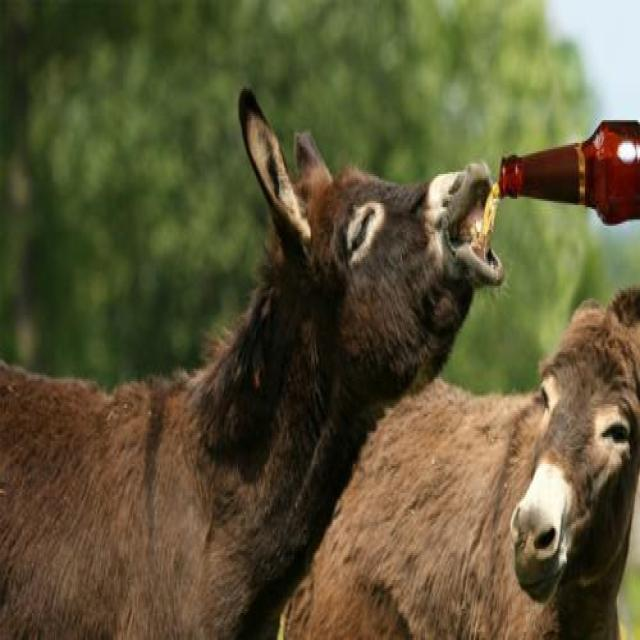Donkey: (0, 86, 504, 640), (285, 283, 640, 640)
